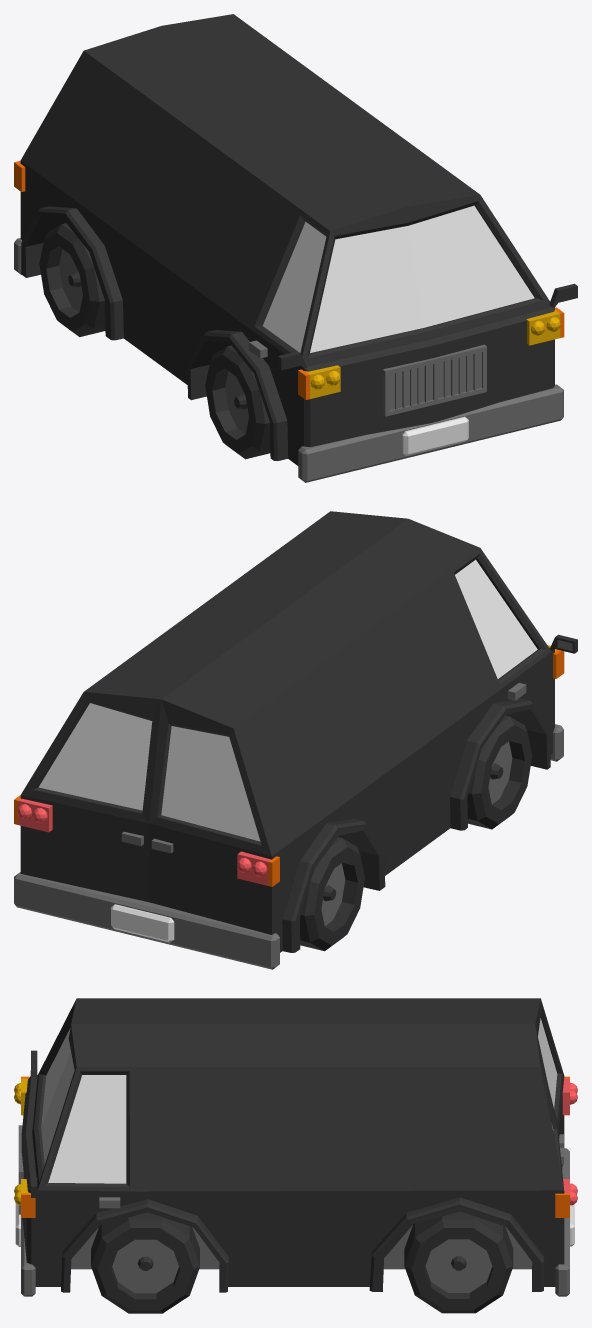
The model's file is Car E.fbx.
The picture shows the model from 3 angles, top to bottom: view 1: azimuth 30°, elevation 25°; view 2: azimuth 150°, elevation 25°; view 3: azimuth 270°, elevation 25°; orthographic projection. The views are drawn at different scales.
Visible parts, largest first — view 1: Car E; view 2: Car E; view 3: Car E.
Part boxes in pixels (<box>): Car E: <box>14,14,577,482</box>; Car E: <box>14,511,577,969</box>; Car E: <box>14,998,577,1313</box>.
Size of the model in its own units: 167 by 131 by 292.
